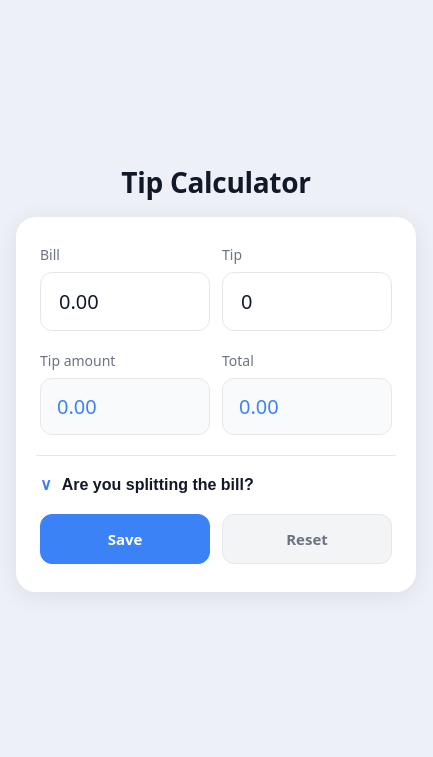
Test case: App – history › Save adds the current calculation
Replace the text in the field labelled "Bill" with "50". click: (125, 301)
box: [57, 286, 193, 316]
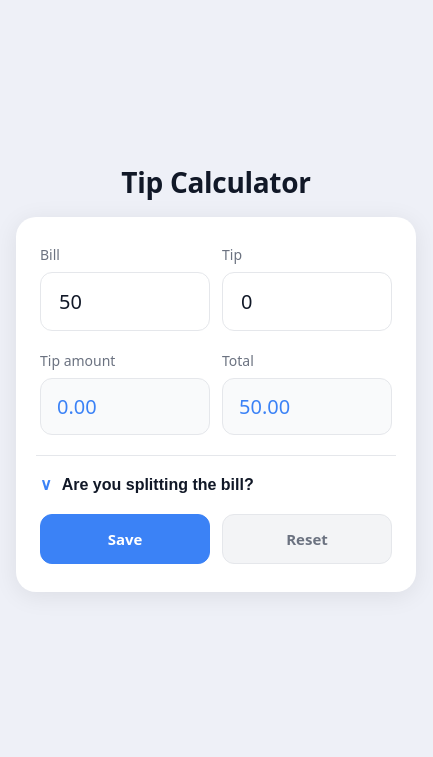
Replace the text in the number field labelled "Tip" with "15". click: (307, 301)
box: [239, 286, 375, 316]
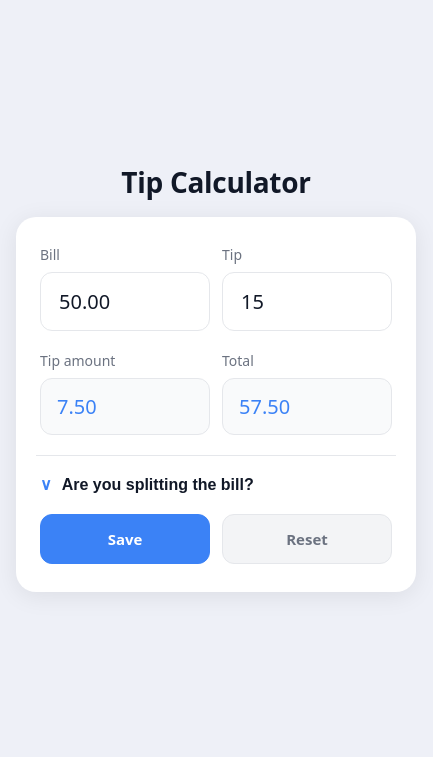
Click the text "Are you splitting the bill?". click: (158, 484)
box: [62, 476, 254, 494]
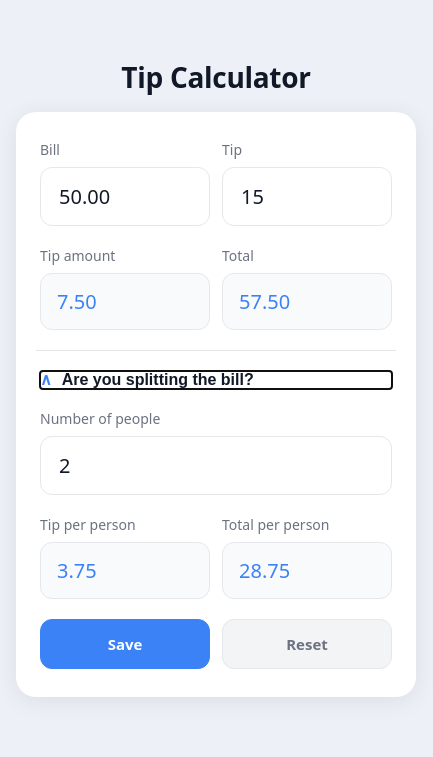
Click the button "Save". click: (125, 644)
box: [40, 618, 210, 668]
(page scrolled)
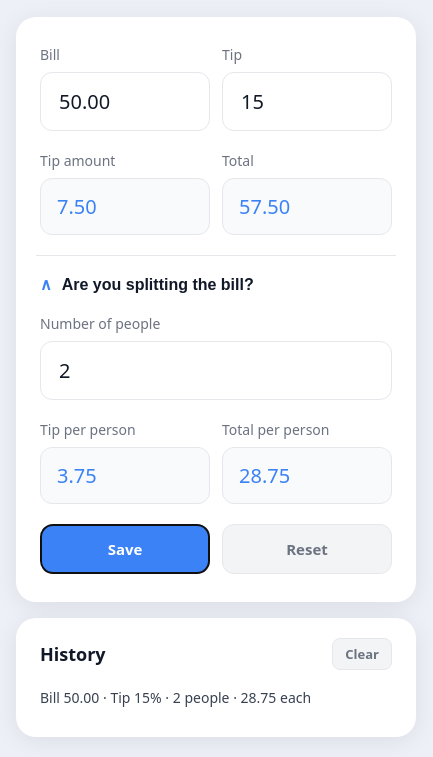
Now the list item shows "50.00", box [64, 688, 99, 707]
Now the list item shows "15%", box [40, 688, 311, 707]
Now the list item shows "2 people", box [40, 688, 311, 707]
